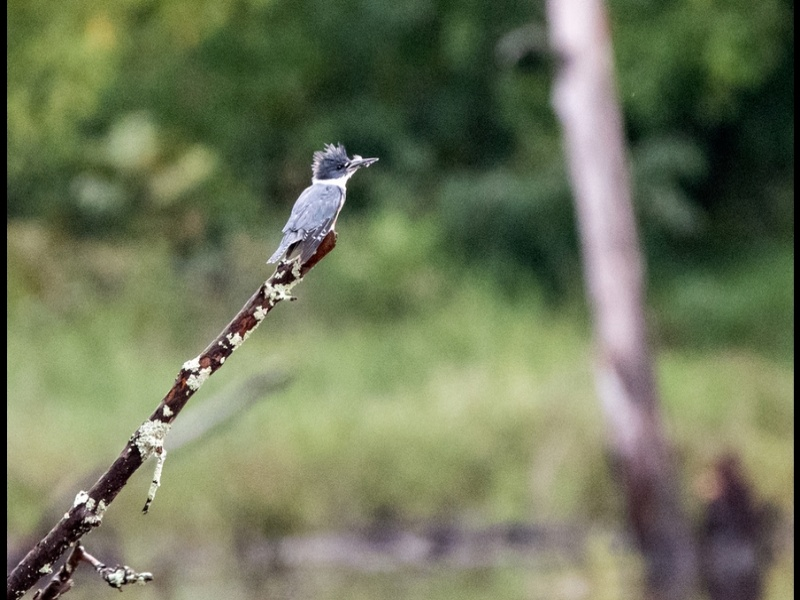kingfisher: (267, 139, 383, 269)
